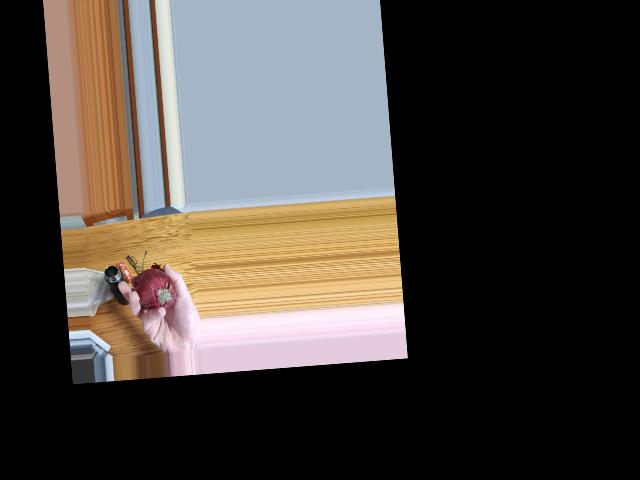onion: (136, 268, 177, 312)
